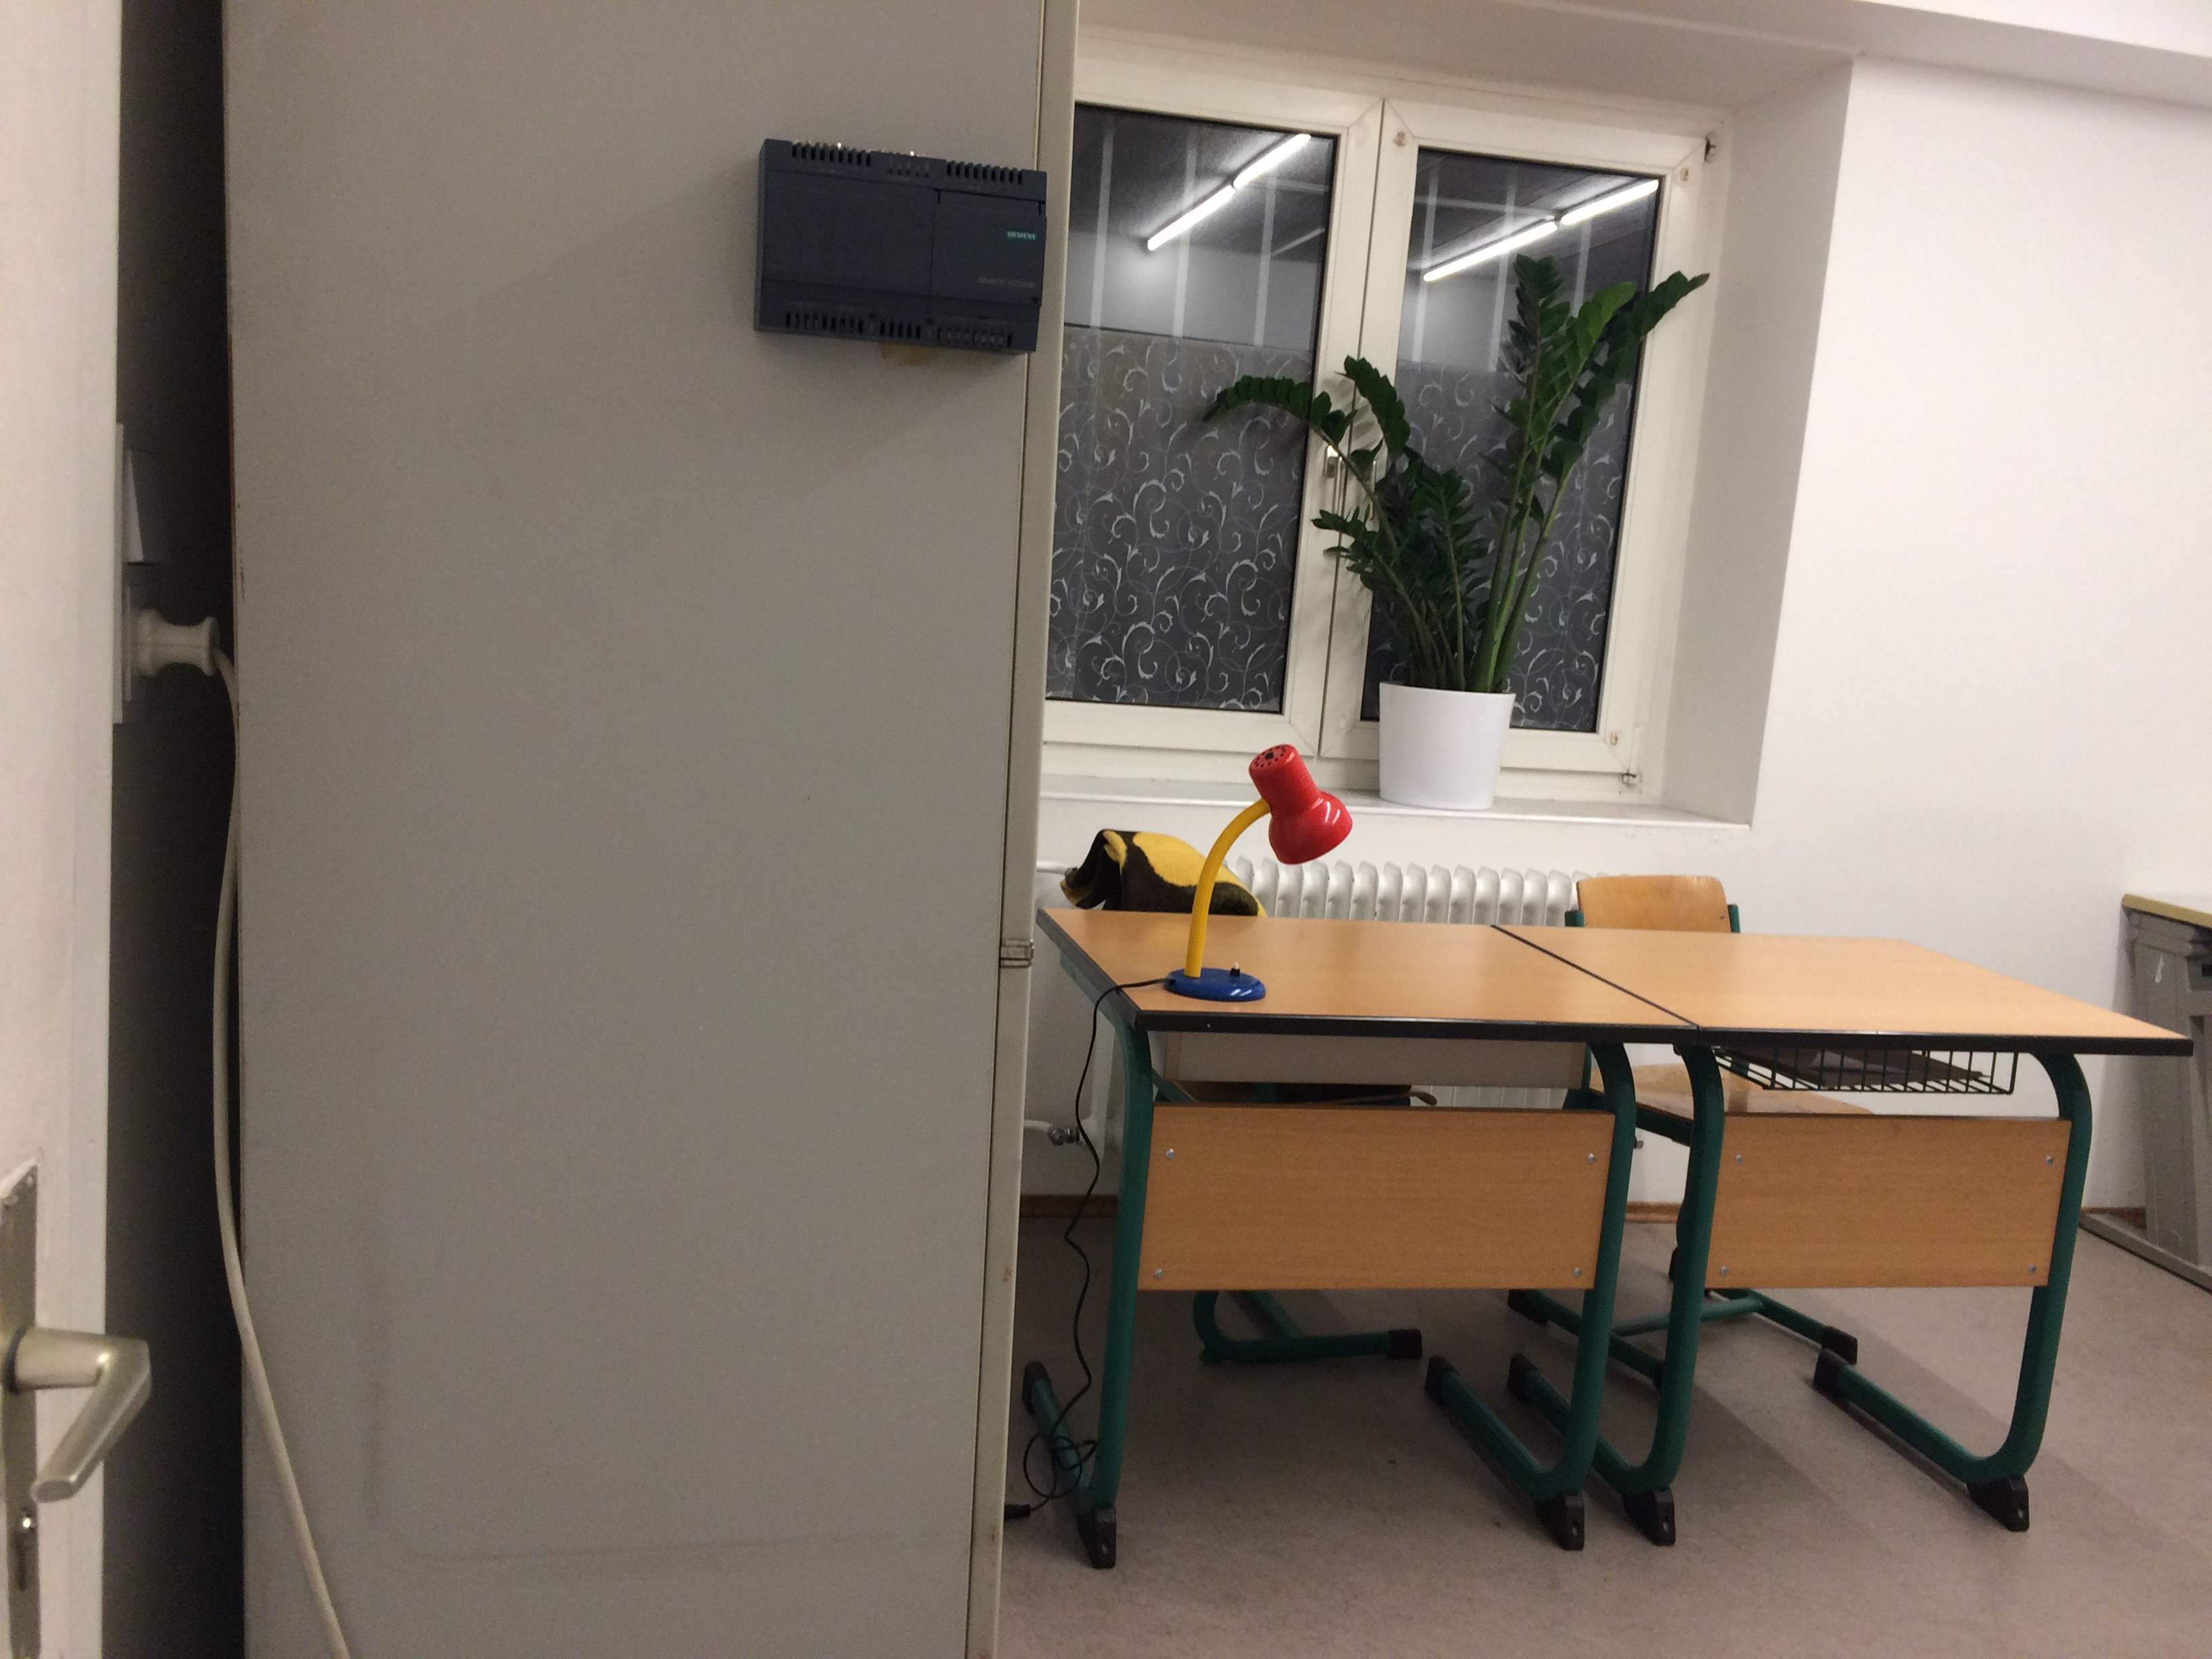iot2000: (754, 136, 1050, 357)
